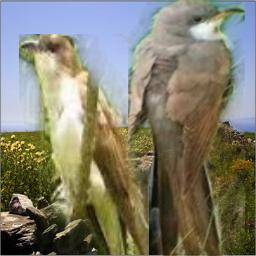Cuckoo: (128, 0, 245, 256), (19, 34, 149, 255)
